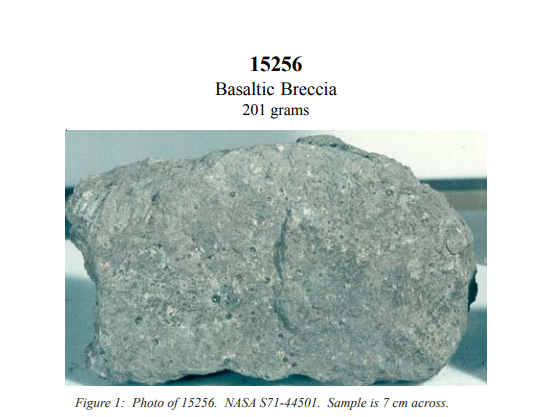Breccia: (67, 139, 482, 388), (205, 188, 444, 350)
